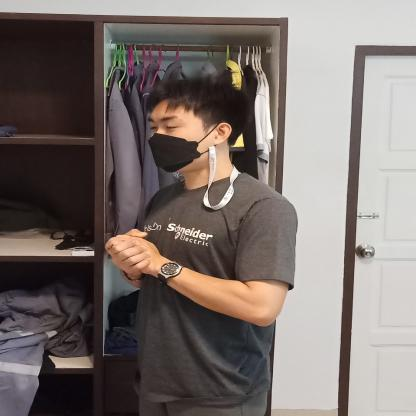Grieve: (89, 228, 184, 292)
